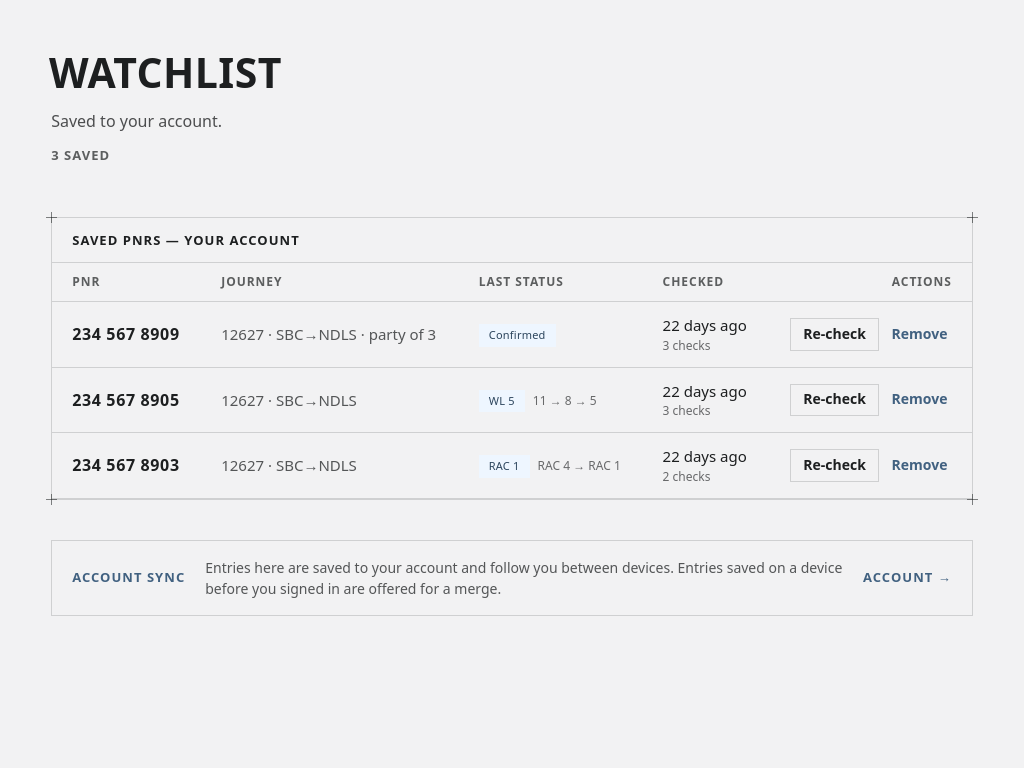
Test: WatchlistView — your account › removes through the API and restores the full entry on undo
Click the button with test id "watchlist-remove".
click(919, 334)  # box [887, 318, 952, 350]
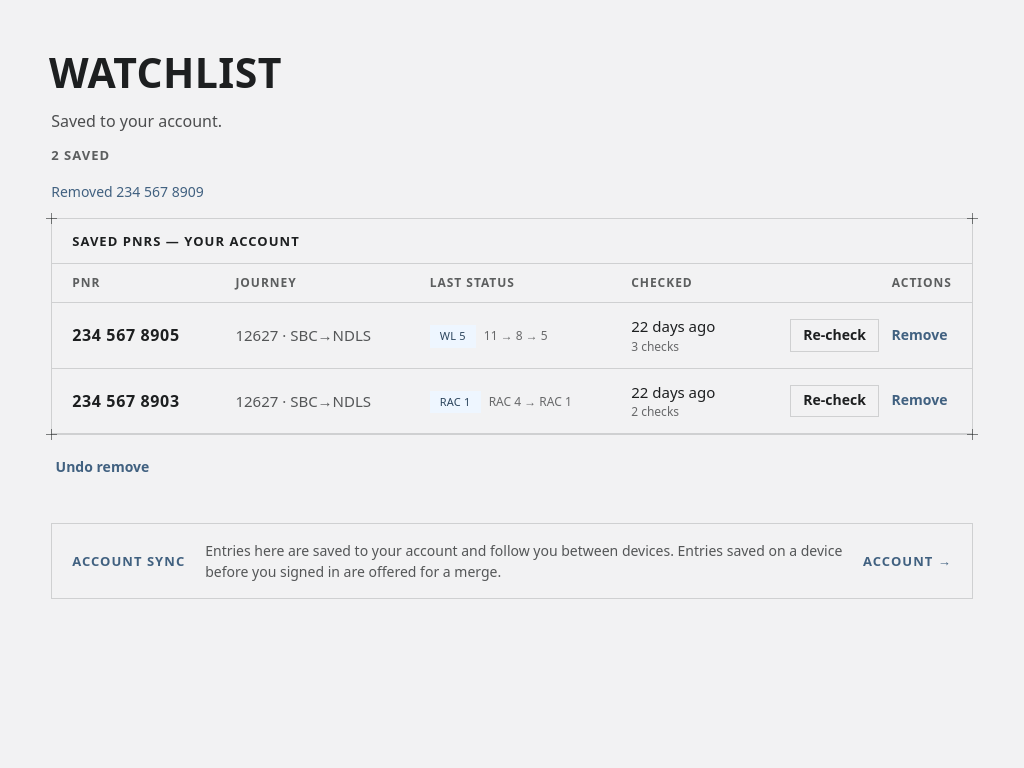
Check: the text "Removed 234 567 8909" is shown, box [51, 182, 204, 201]
Click the button "Undo remove".
click(102, 467)  # box [51, 451, 154, 484]
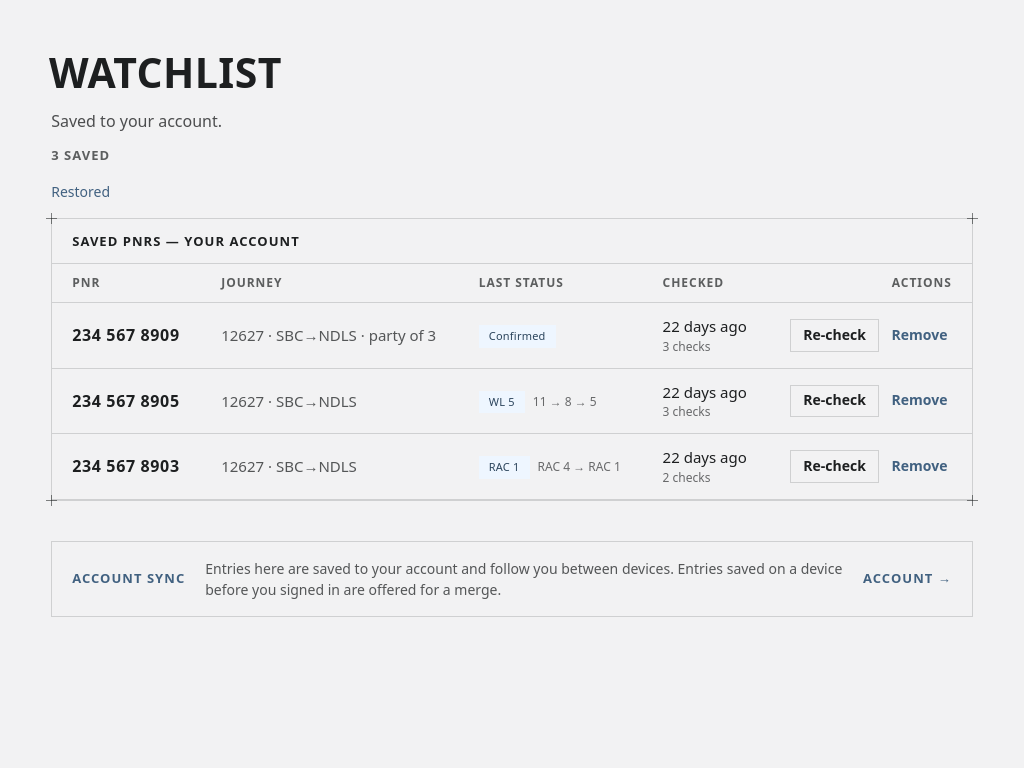
Check: the link "234 567 8909" is shown, box [72, 323, 180, 347]
Check: the text "Restored" is shown, box [51, 182, 110, 201]
